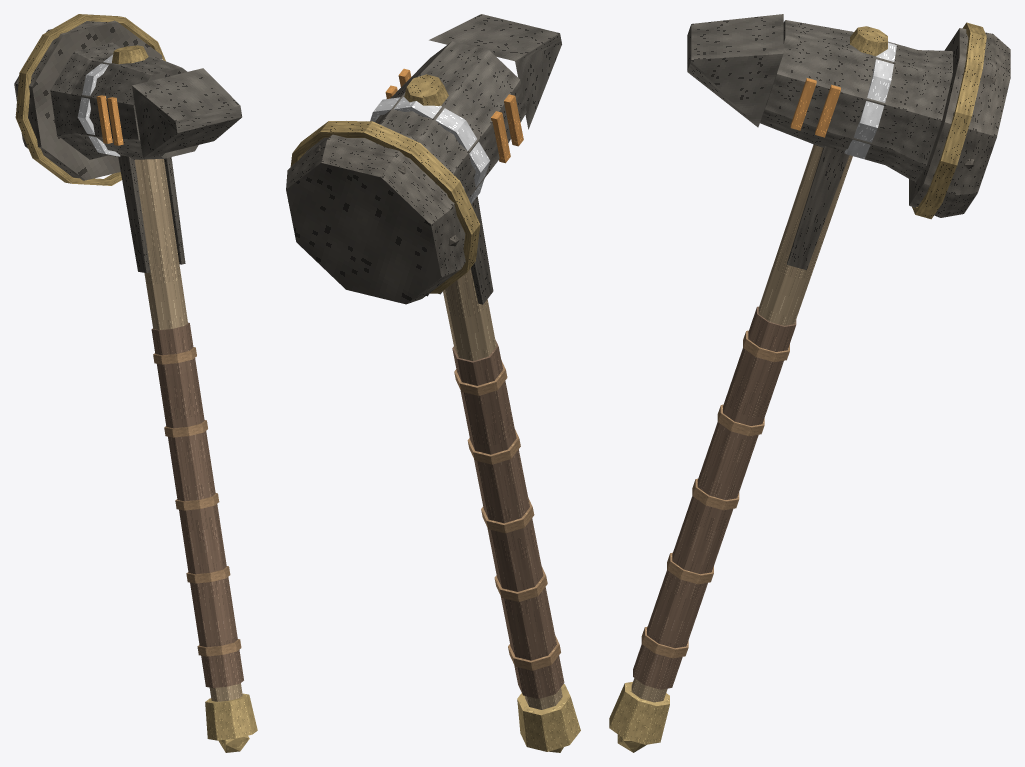
Rendered from weapon_tamper.gltf.
3 renders of one model, left to right at view 1: azimuth 30°, elevation 25°; view 2: azimuth 150°, elevation 25°; view 3: azimuth 270°, elevation 25°, orthographic. The views are drawn at different scales.
Visible parts, largest first — view 1: head, haft, band, vent; view 2: head, haft, band, vent; view 3: head, haft, band, vent.
Boxes of the visible parts, x1,y1,x2,y2 form: head: (14,14,242,273); haft: (134,159,257,752); band: (77,54,162,156); vent: (96,95,123,145); head: (286,14,561,304); haft: (443,268,580,752); band: (370,97,489,203); vent: (385,68,523,163); head: (687,14,1010,270); haft: (609,144,852,752); band: (844,42,896,159); vent: (790,78,840,137).
Bounding box in the file's own units: 0.234 × 0.9291 × 0.4695.
Materials: 4 (4 with a texture image).
